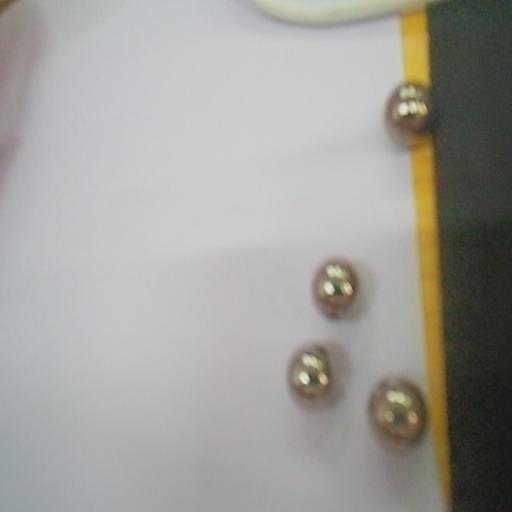steel-ball: (371, 371, 426, 448), (383, 75, 440, 146), (309, 250, 364, 320), (282, 341, 334, 405)
